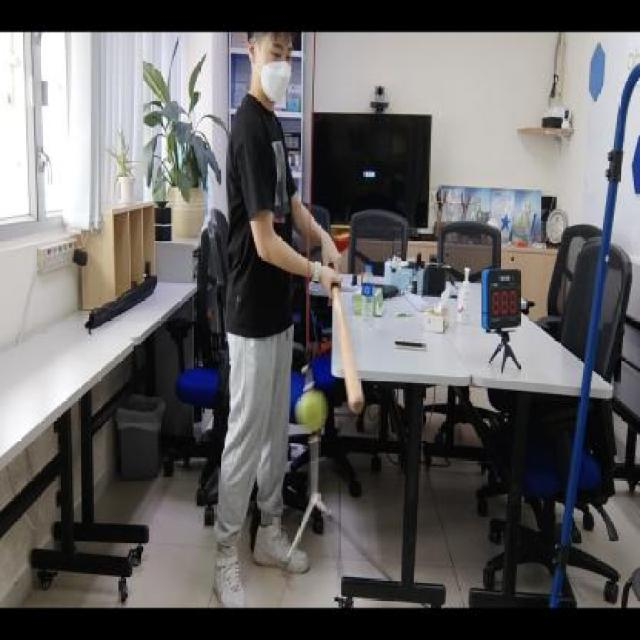baseball: (294, 388, 329, 435)
